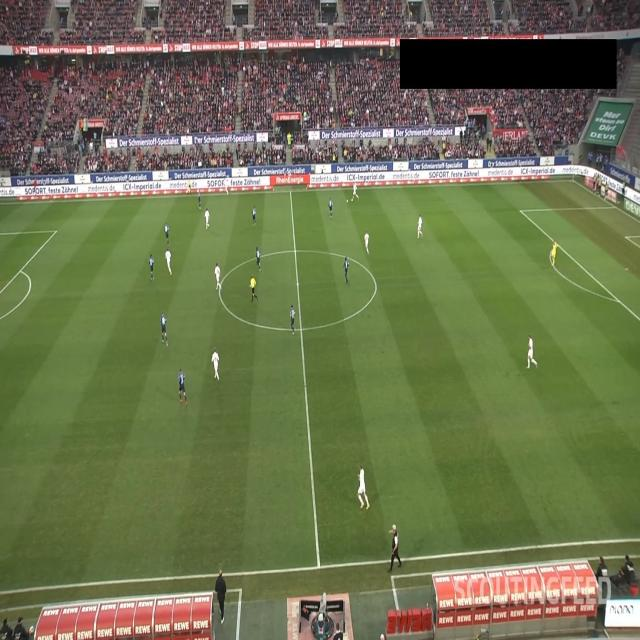ball: (346, 199, 349, 203)
